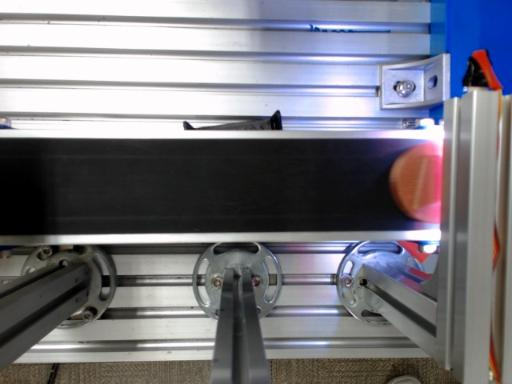Brown_Waper: (390, 142, 441, 223)
